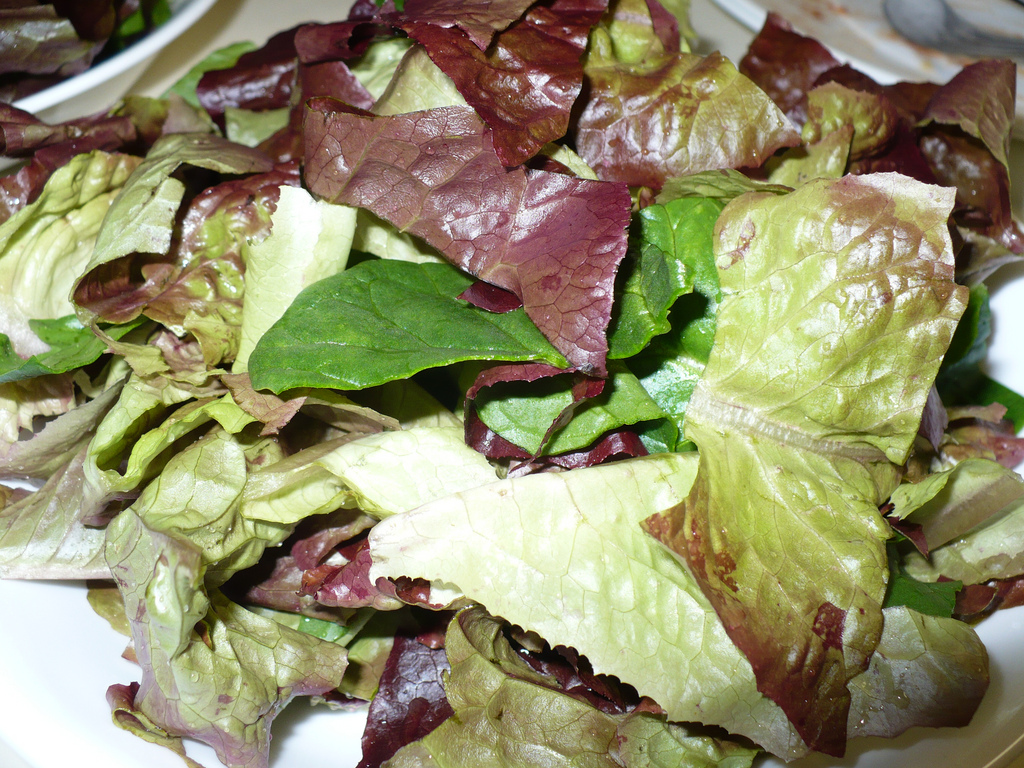chopped lettuce: (46, 43, 1024, 760)
